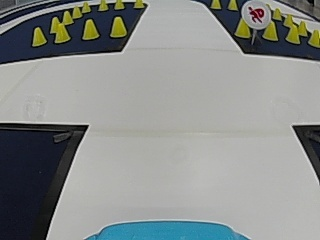thief: (241, 0, 272, 28)
